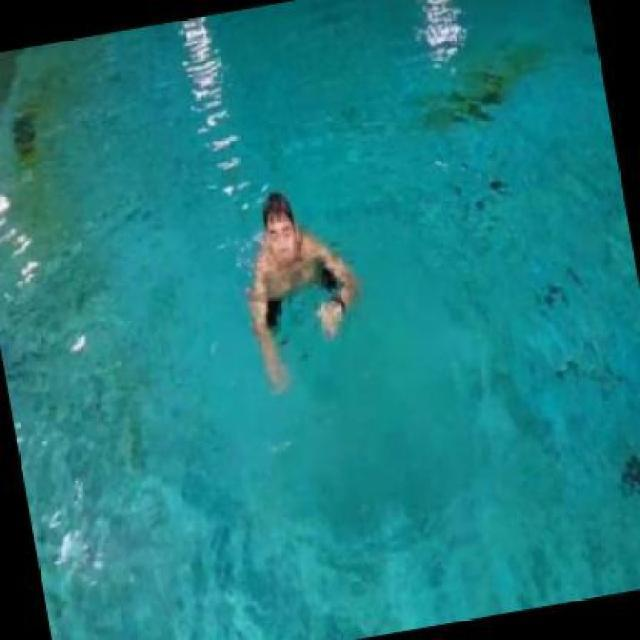Swimming: (240, 187, 372, 395)
